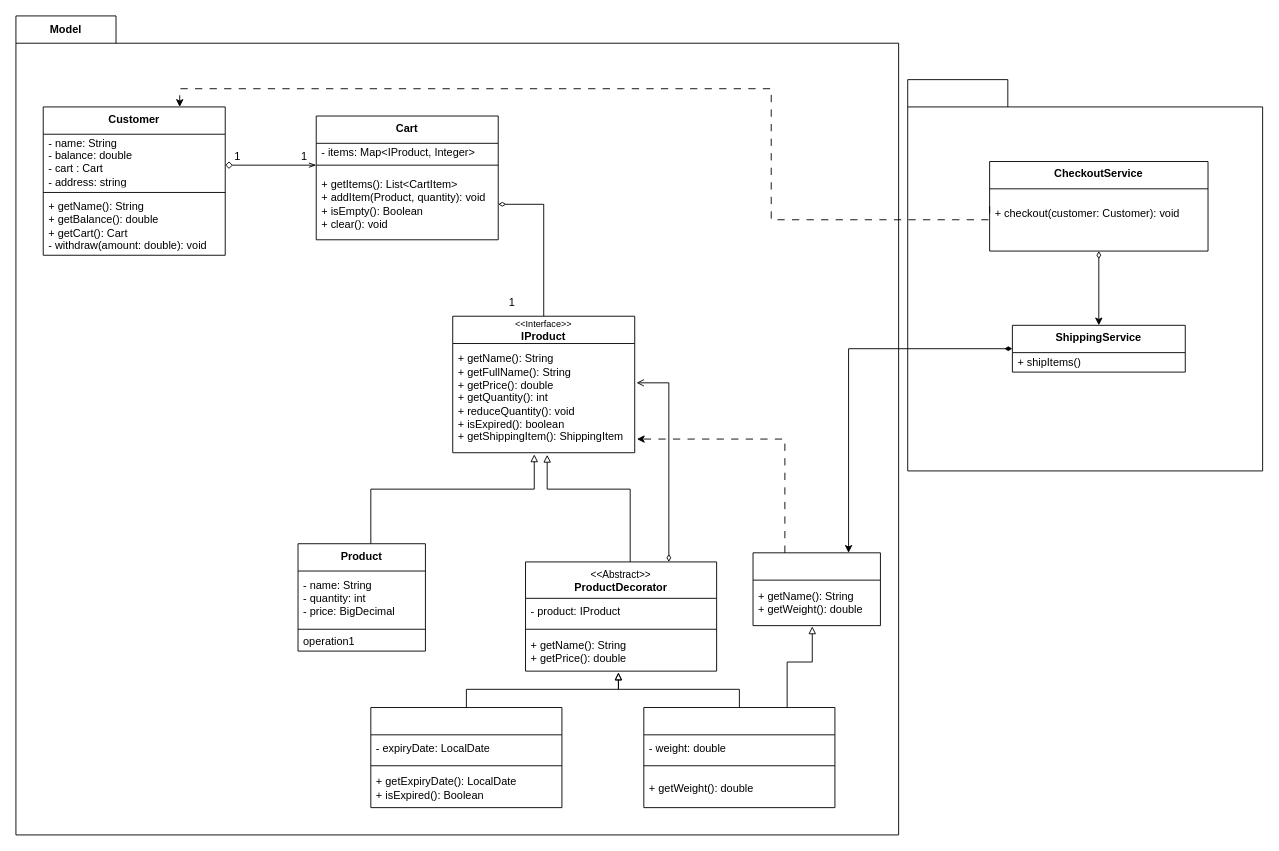
Some shapes in this 1279 by 851 pixel diagram are drawn without their labels. The shapes that lost their labels are listed below. From the top down, each one's box as (x1, y1, x2, y2) in pixels, then its label:
(907, 79, 1263, 471): Services
(752, 552, 880, 626): <<Interface>> ShippingItem
(370, 707, 562, 808): ExpiringProductDecorator
(643, 707, 835, 808): ShippingProductDecorator
